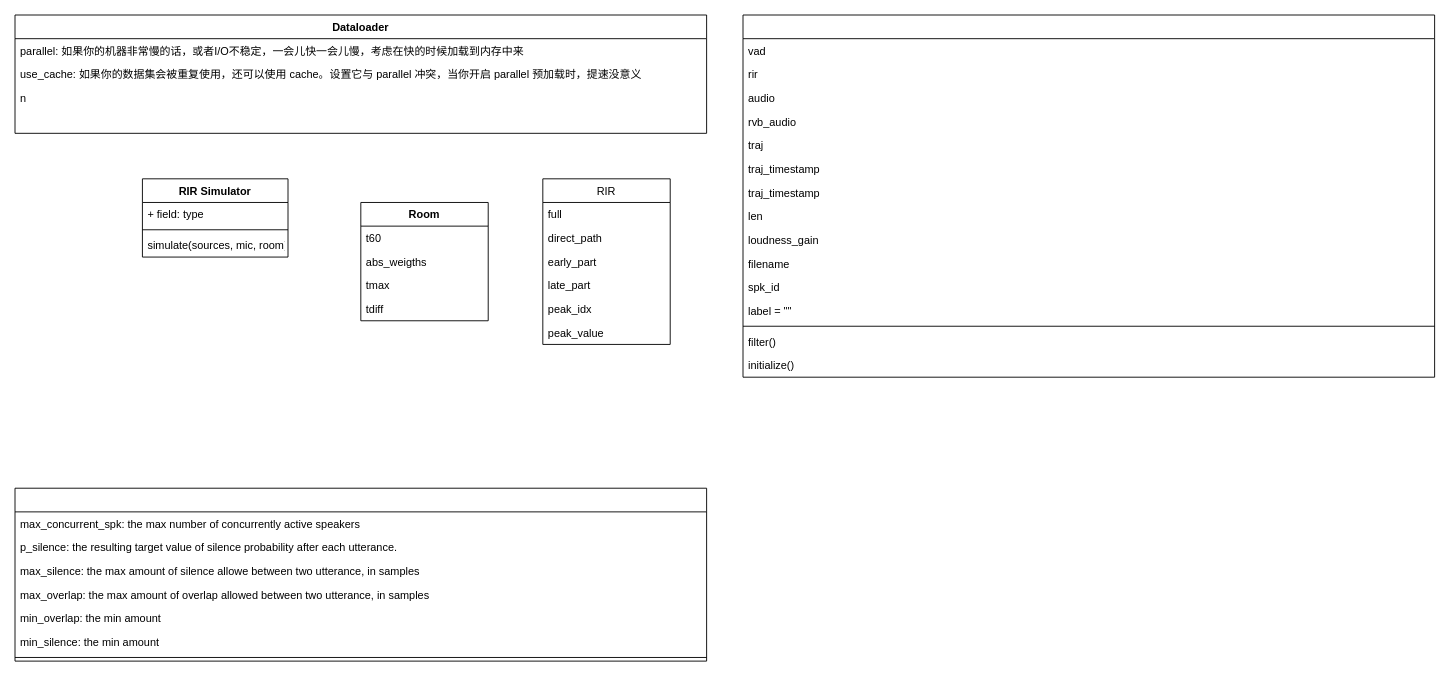
This 1450x676 diagram has some shape labels left out. The box of each missing label's shape, as (x1, y1, x2, y2) in pixels:
Mixer: (14, 487, 707, 661)
Source: (742, 14, 1435, 377)
